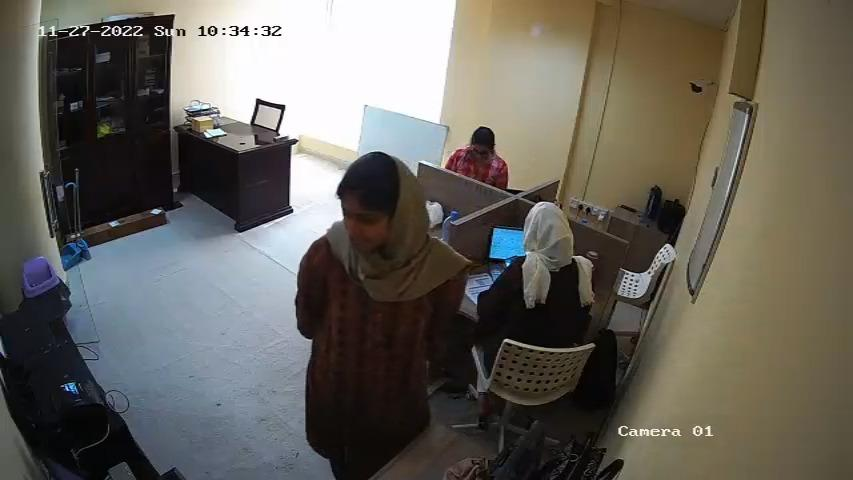no_apron: (305, 261, 431, 421)
